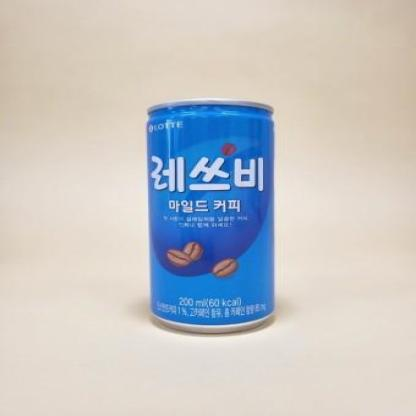alumunium_can: (144, 103, 288, 345)
